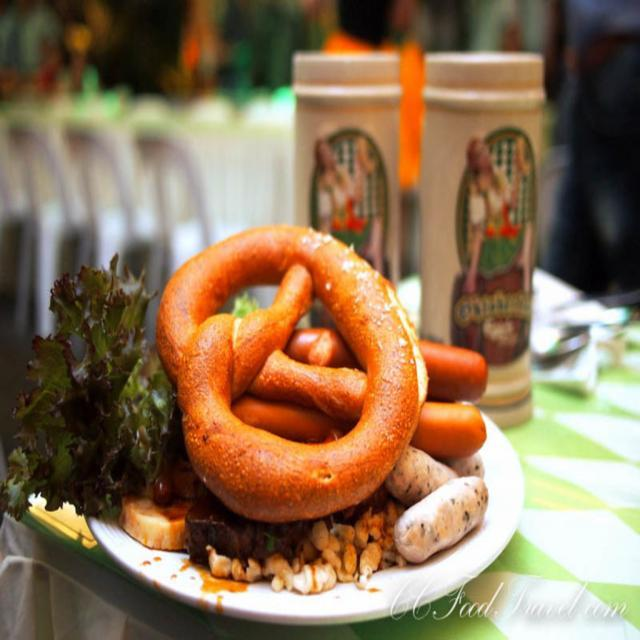Potato: (396, 476, 493, 561), (384, 442, 458, 506), (447, 450, 487, 480)
